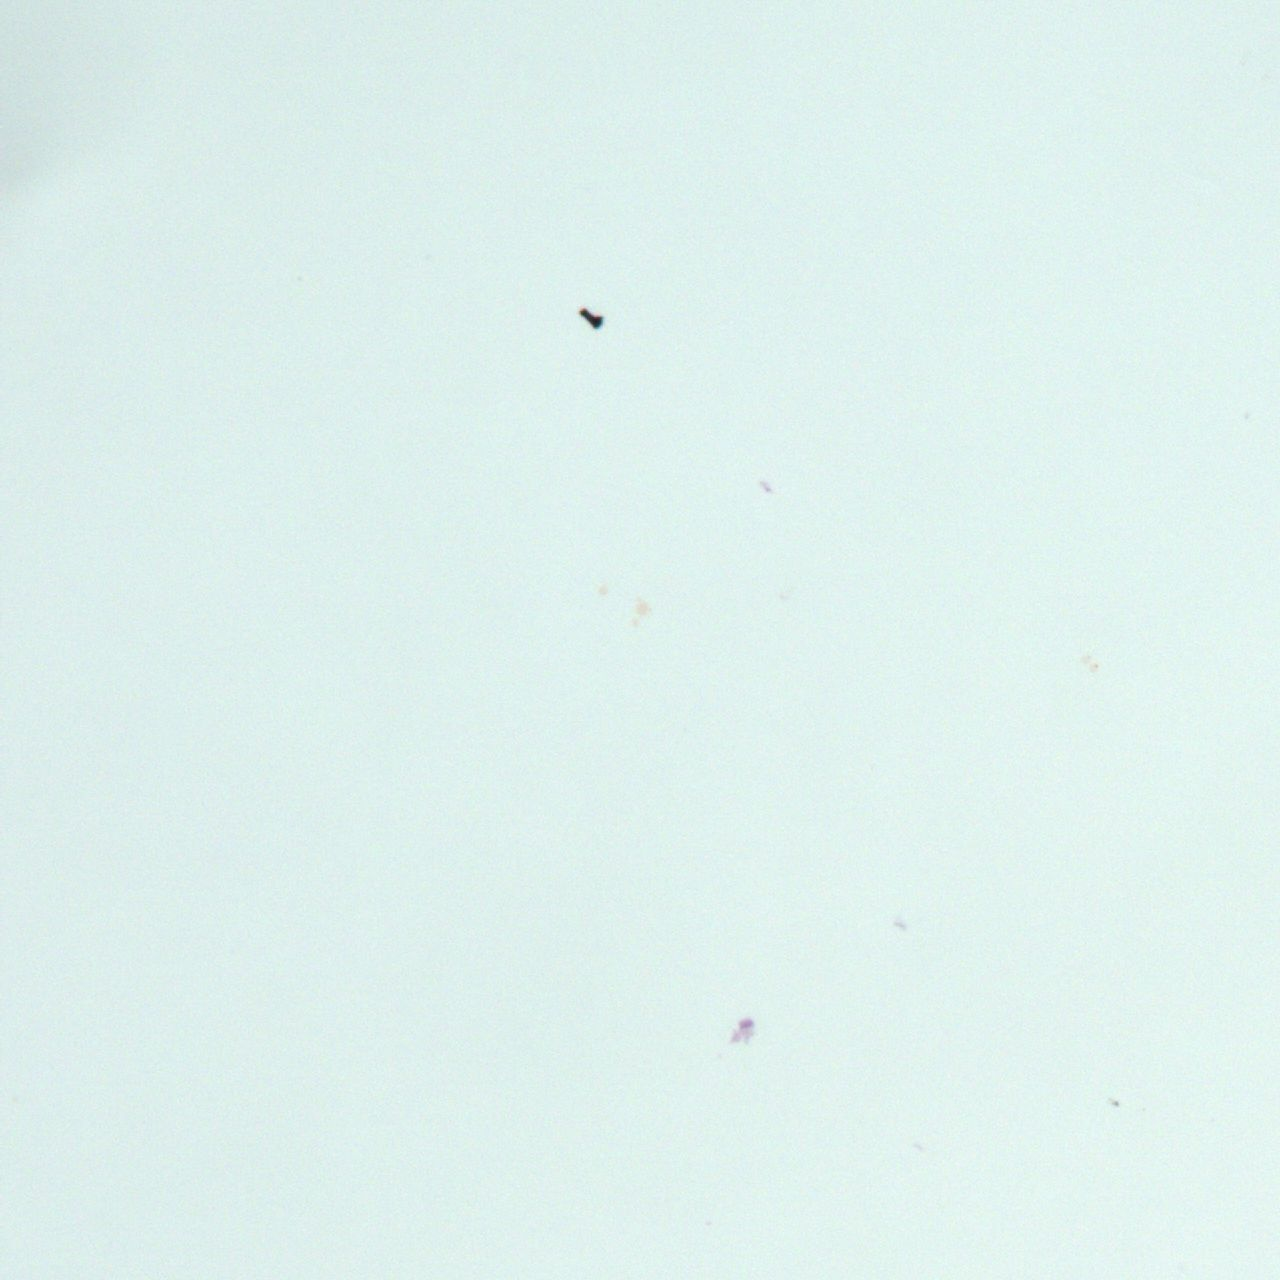dust: (578, 302, 602, 331)
